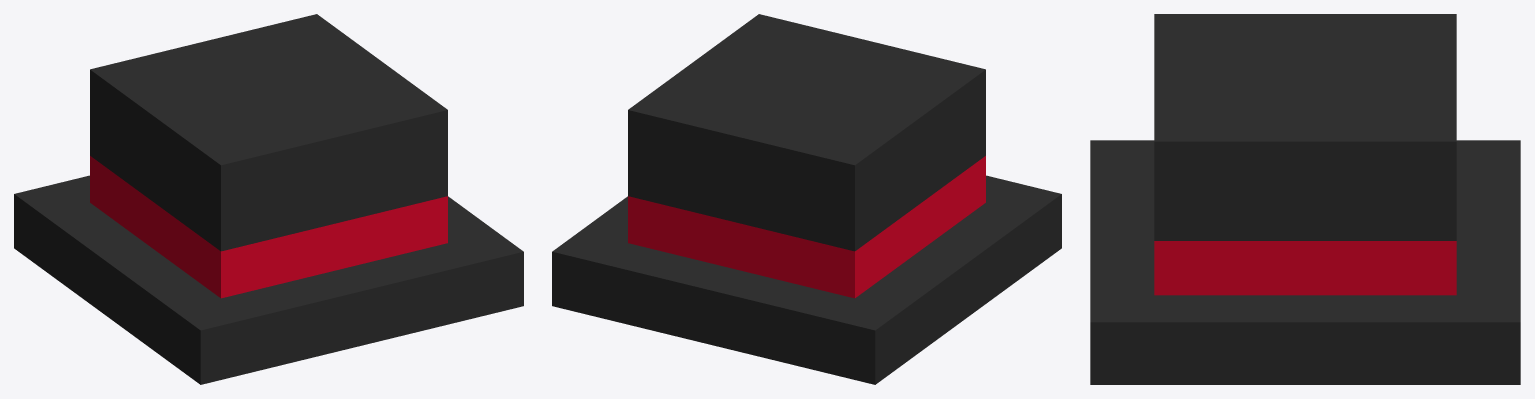
The model's file is low_poly_tophat.fbx.
3 views of the same model, side by side, from view 1: azimuth 30°, elevation 25°; view 2: azimuth 150°, elevation 25°; view 3: azimuth 270°, elevation 25° (orthographic). The views are drawn at different scales.
Visible parts, largest first — view 1: Hat; view 2: Hat; view 3: Hat.
Part boxes in pixels (<box>): Hat: <box>14,14,523,384</box>; Hat: <box>552,14,1061,384</box>; Hat: <box>1090,14,1520,384</box>.
Bounding box in the file's own units: 240 × 133 × 240.
